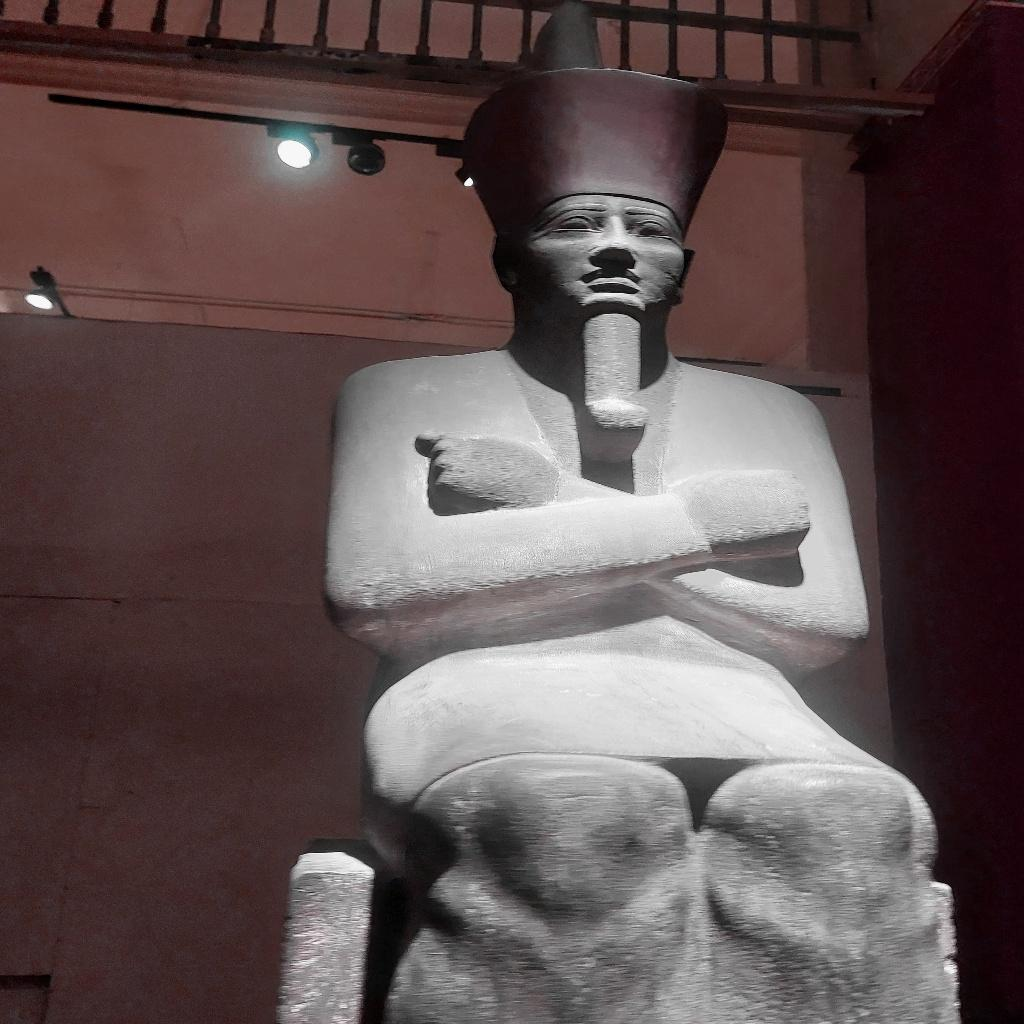Mentuhotep Nebhetpre: (314, 64, 963, 1022)
